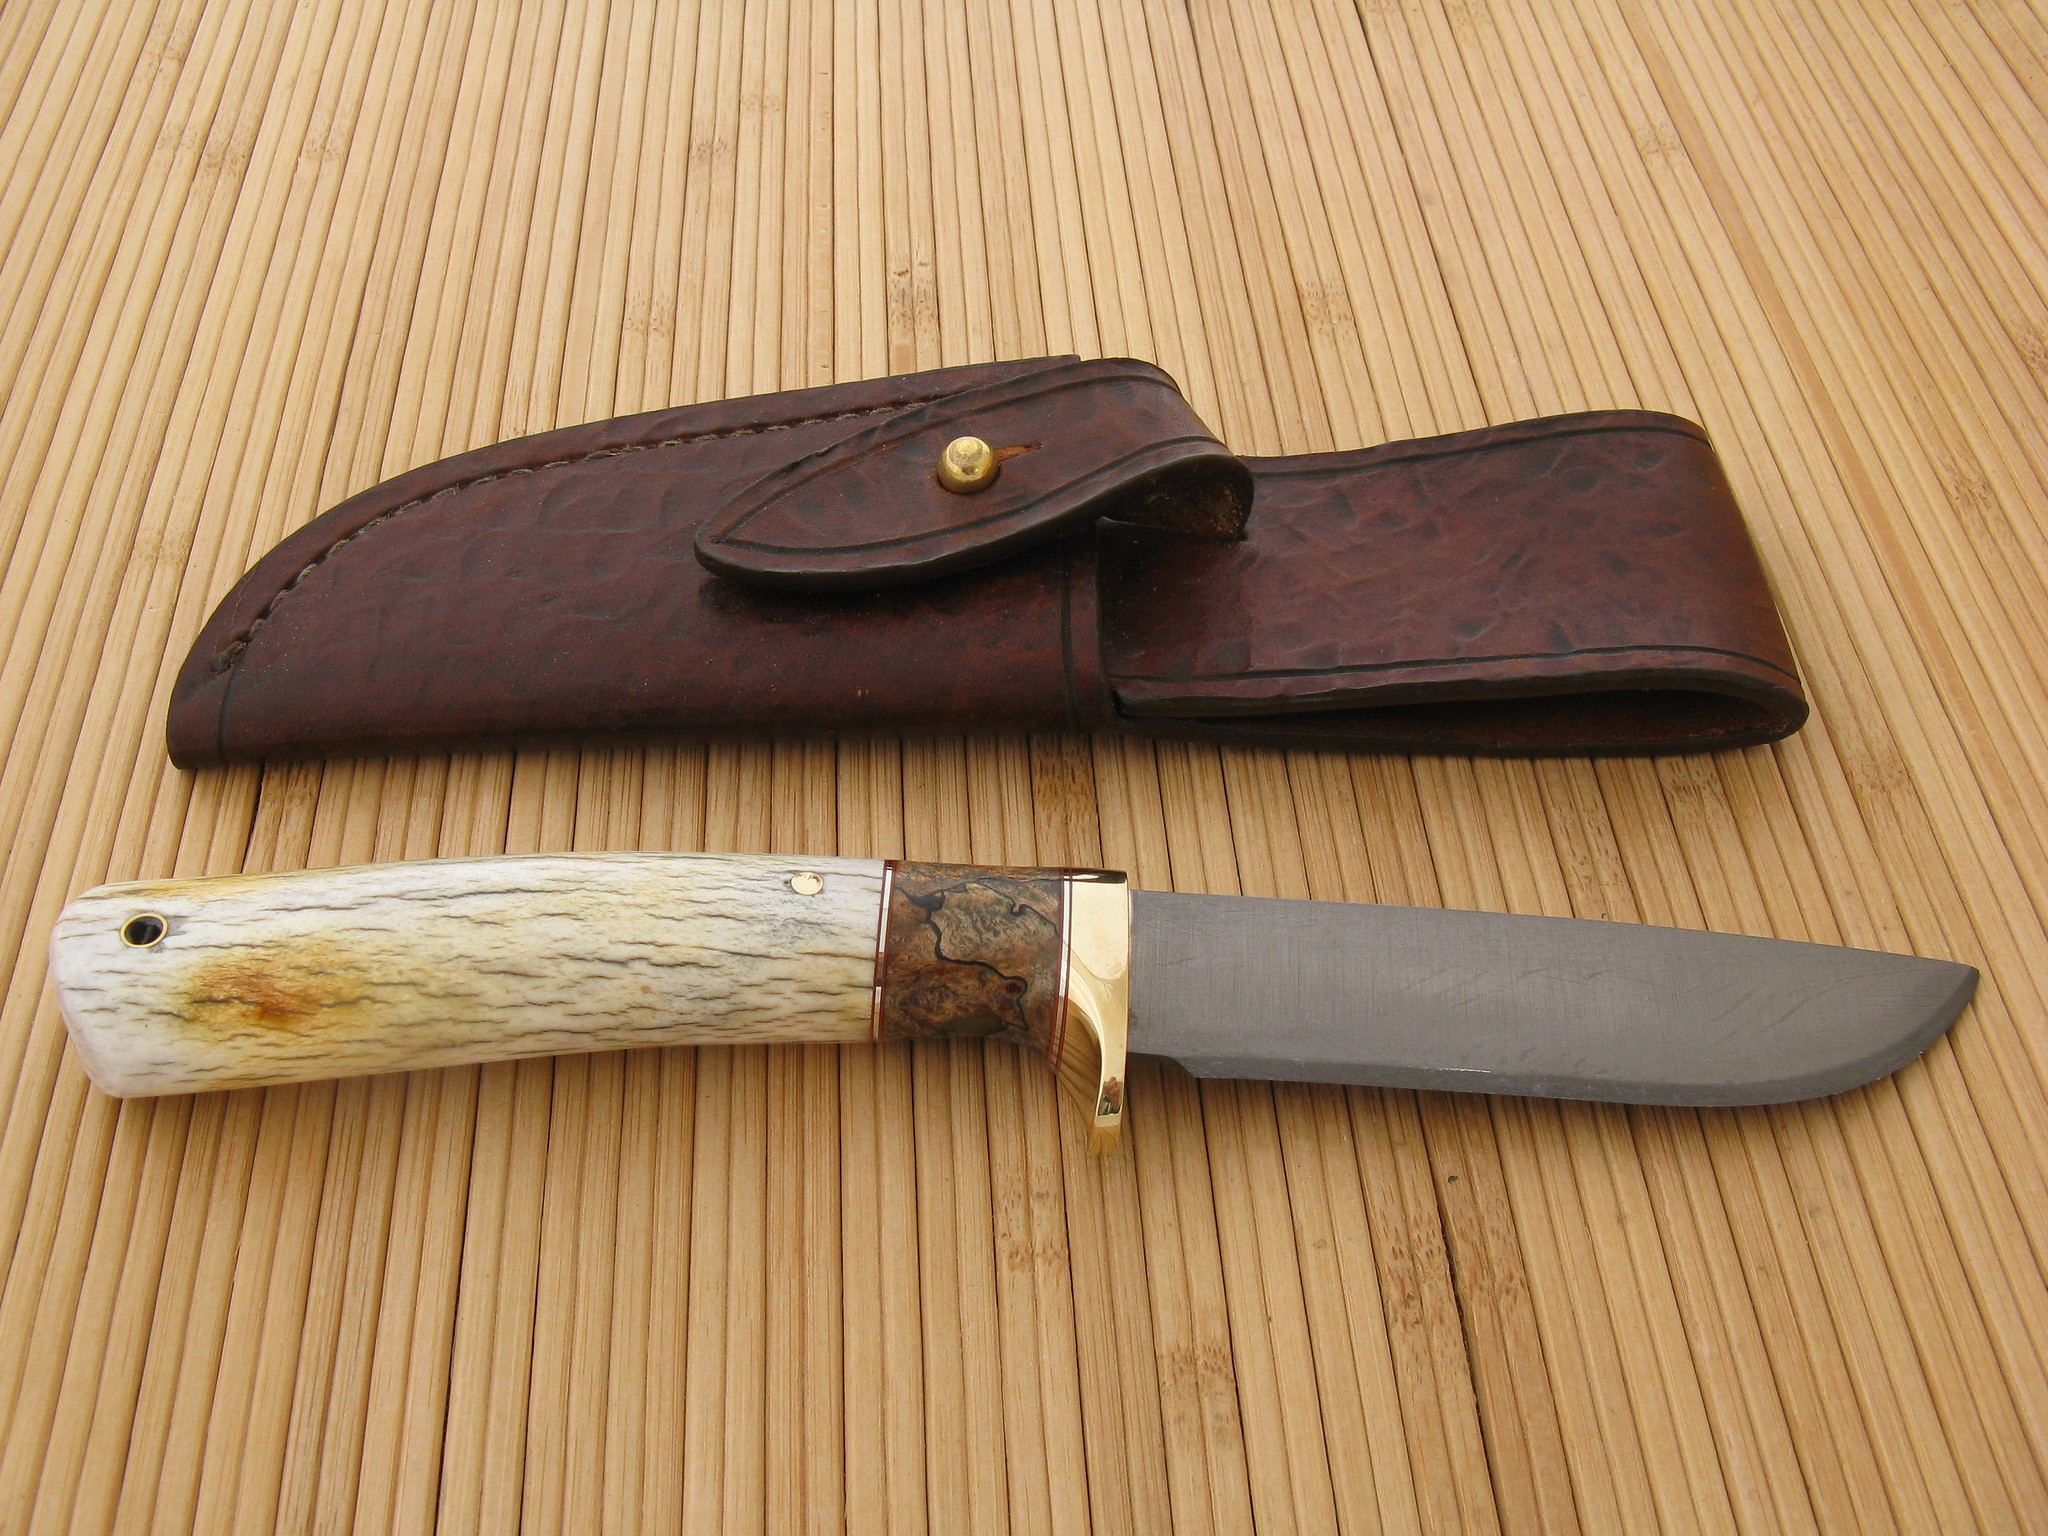knife: (44, 852, 1988, 1233)
